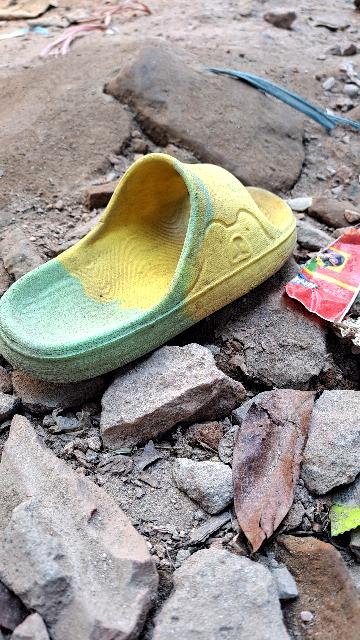sandal: (0, 137, 325, 386)
